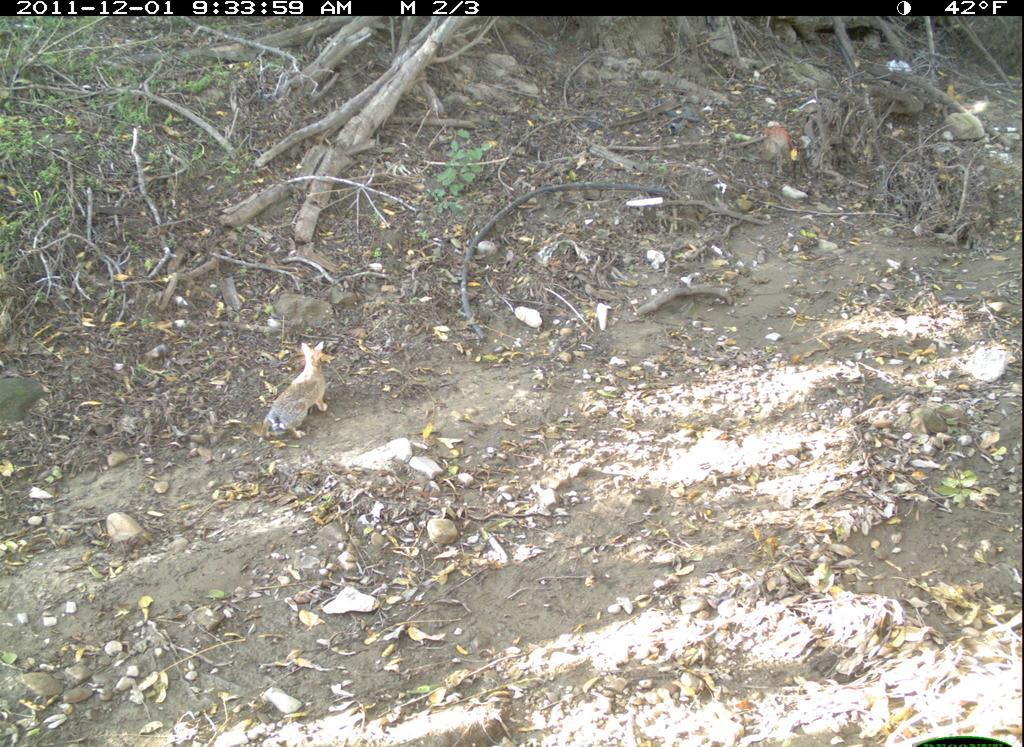rabbit: (258, 314, 346, 452)
